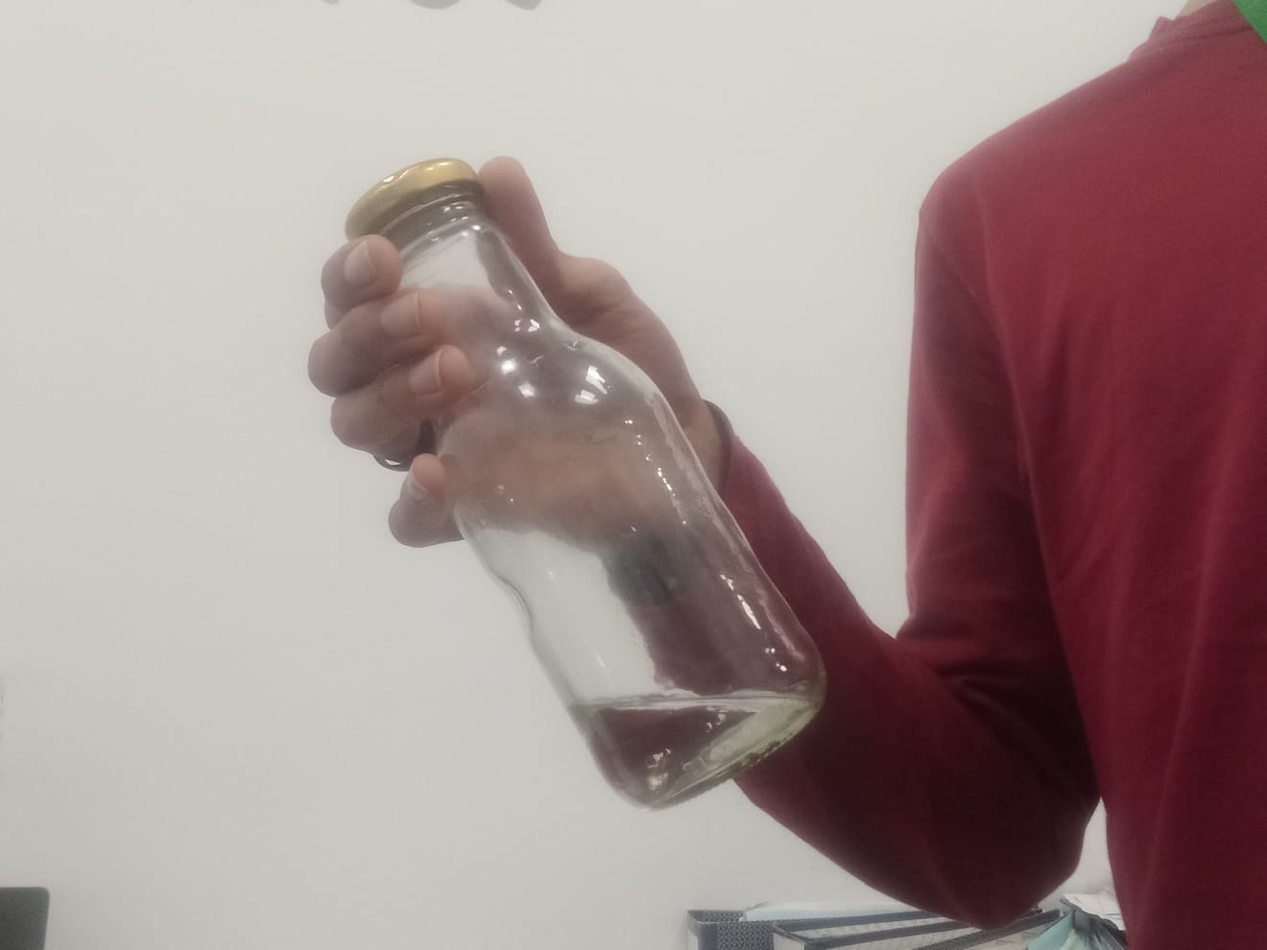Vidrio: (349, 191, 828, 808)
